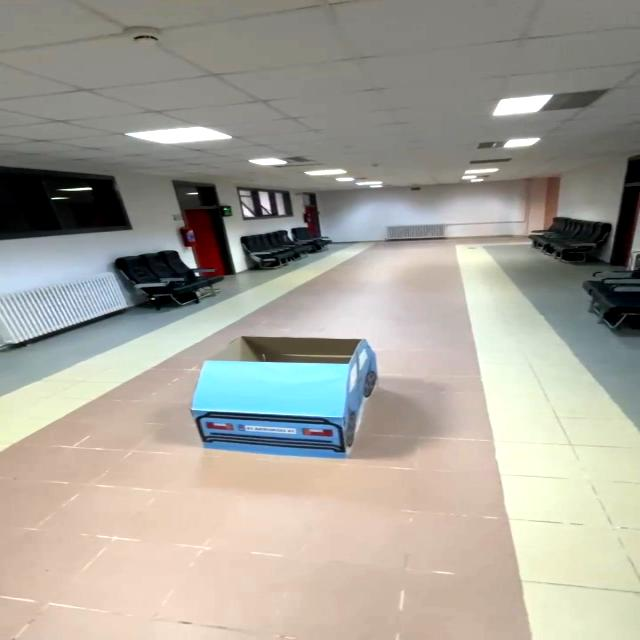blue_car: (157, 323, 420, 470)
